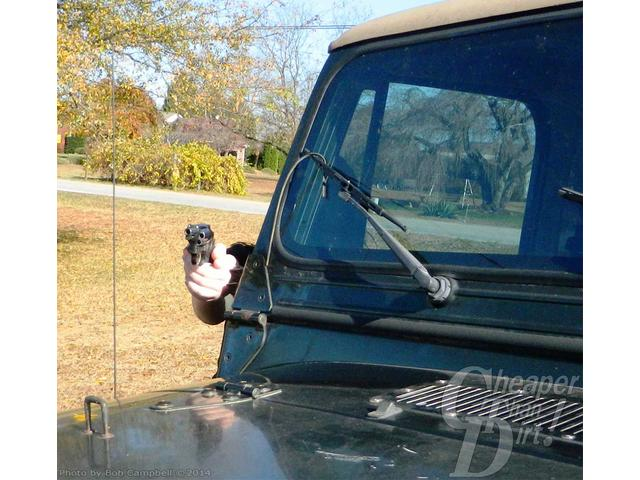pistol: (179, 218, 222, 291)
